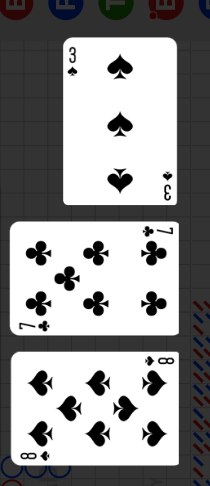3S: (66, 45, 80, 79)
7C: (140, 224, 175, 239)
8S: (19, 449, 53, 462)
